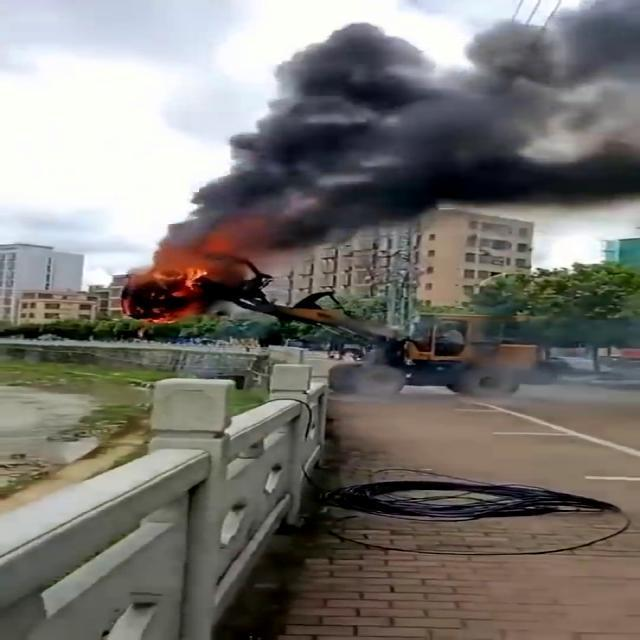Fire: (115, 248, 230, 316)
Smoke: (180, 9, 640, 262)
